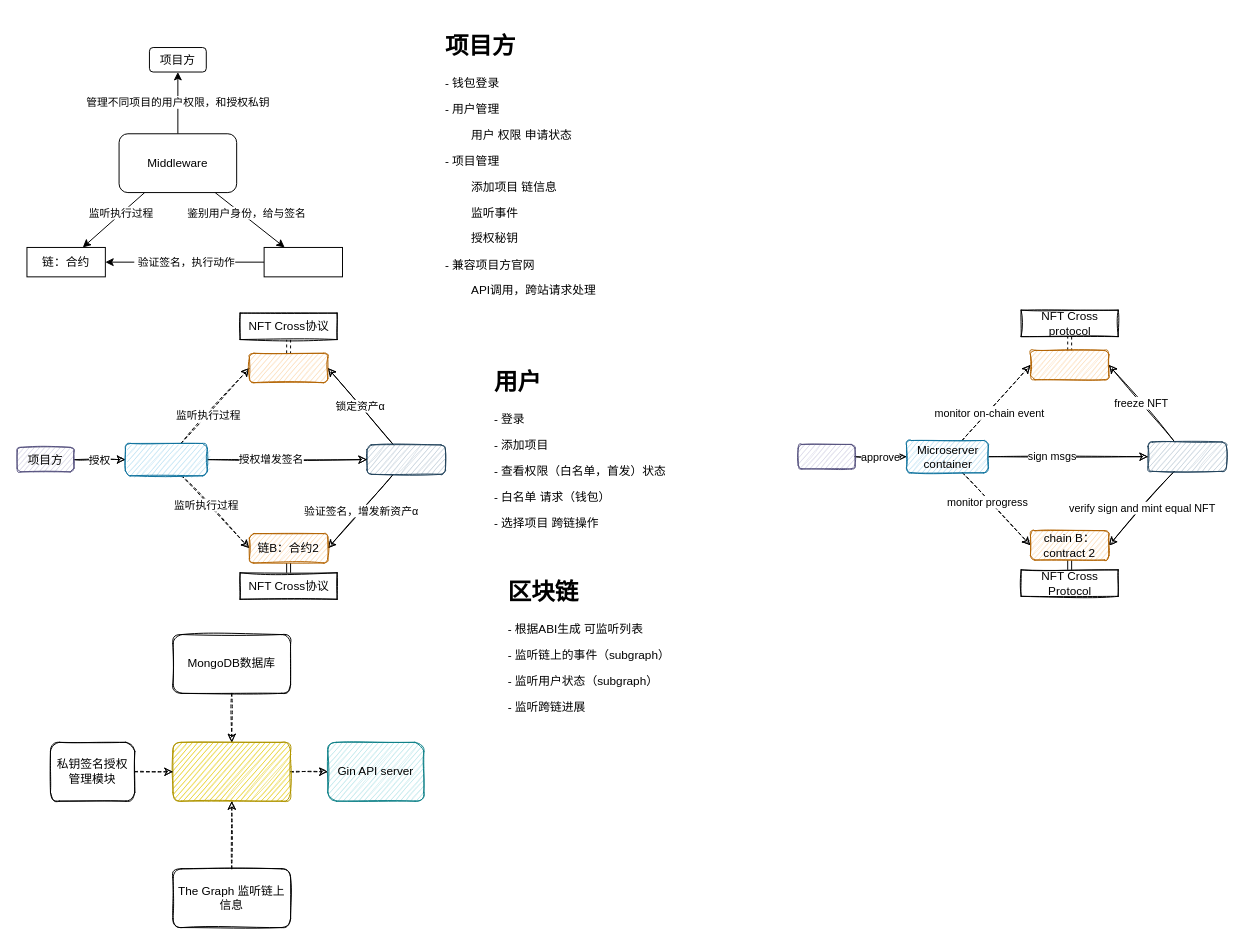
Some shapes in this 1244 by 945 pixel diagram are drawn without their labels. Each missing label, with the box of its shape:
chain A： contract 1: (1029, 349, 1109, 380)
K8S 微服务: (172, 741, 291, 801)
Project Owner: (797, 443, 855, 469)
user: (263, 246, 343, 277)
Users: (1147, 441, 1226, 471)
微服务容器: (124, 442, 207, 476)
用户: (366, 444, 445, 474)
链A：合约1: (248, 352, 328, 383)
